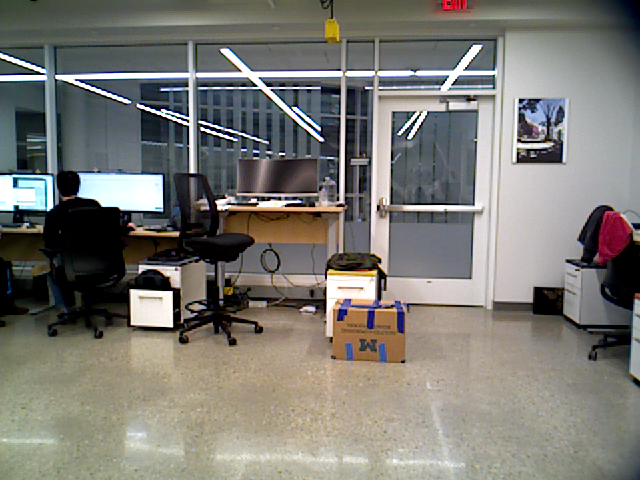painting3: (514, 98, 567, 163)
